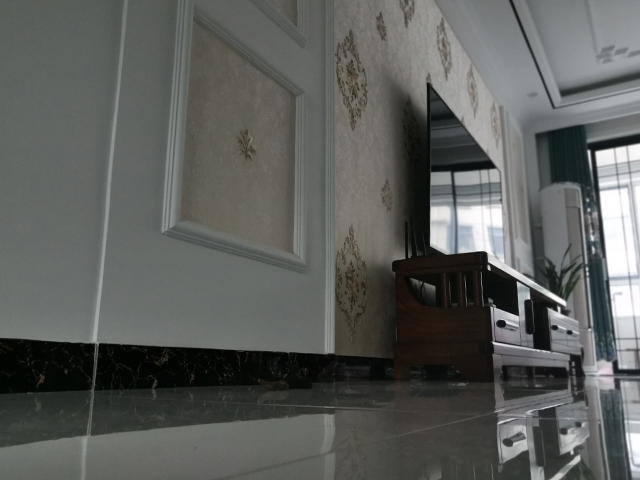cabinet: (389, 250, 583, 384)
curtain: (544, 124, 621, 365)
feces: (254, 378, 290, 392), (284, 375, 314, 390)
